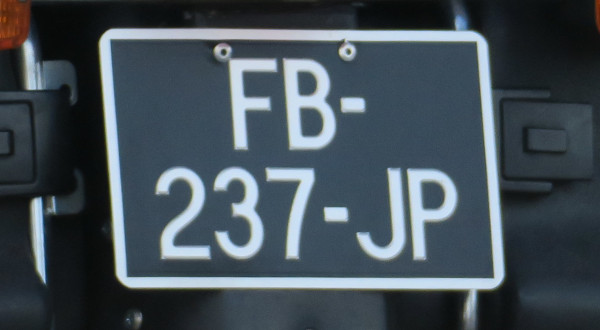license_plate: (97, 28, 506, 289)
